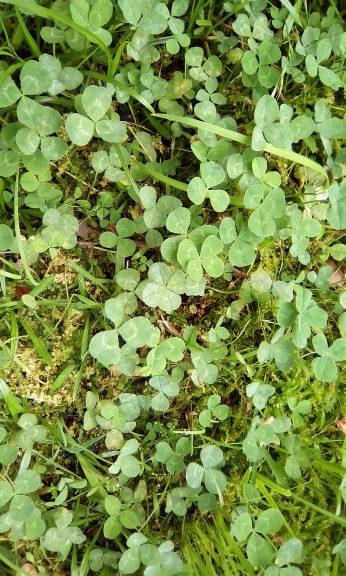4leaf: (176, 234, 224, 282), (142, 262, 186, 312)
